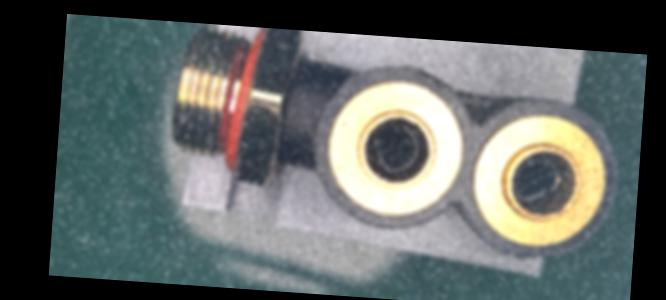bump: (413, 68, 450, 92), (508, 245, 560, 261)
off-centered: (363, 119, 433, 177), (507, 154, 570, 208)
white mark: (288, 117, 305, 133)
